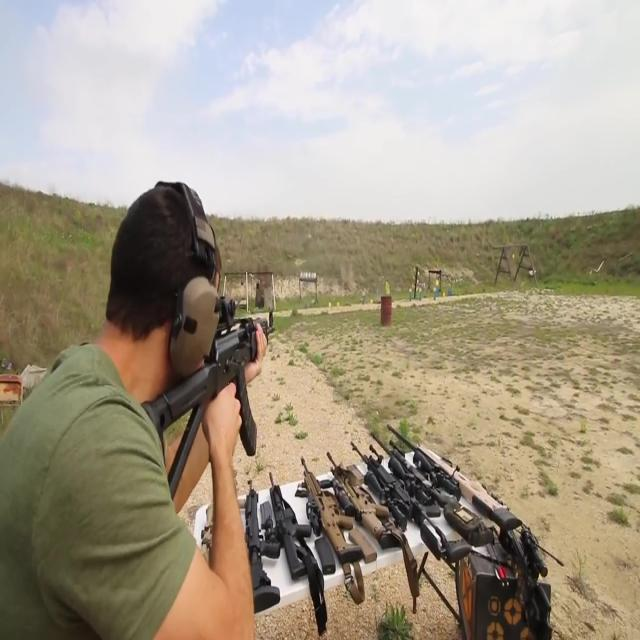Weapon: (152, 386, 558, 619), (36, 284, 307, 474)
